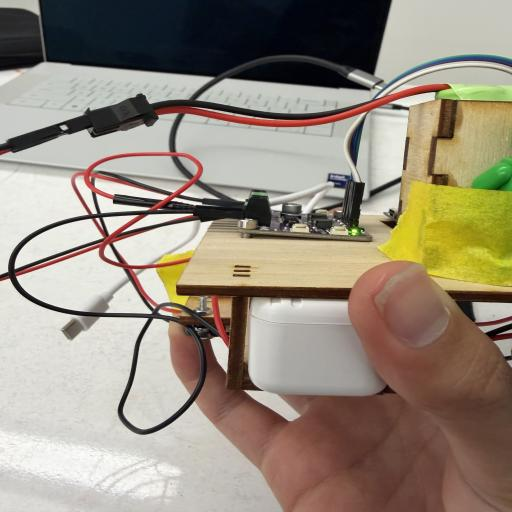Green-Lego: (471, 157, 512, 191)
